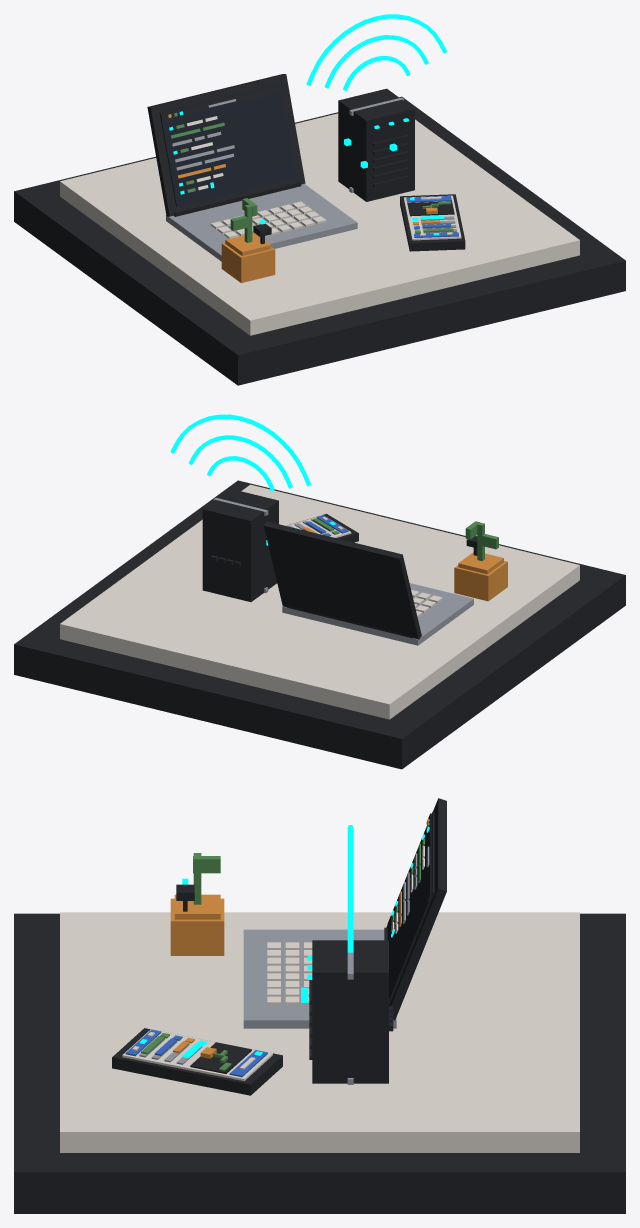
The model's file is software_scene.glb.
The picture shows the model from 3 angles, top to bottom: view 1: azimuth 30°, elevation 25°; view 2: azimuth 150°, elevation 25°; view 3: azimuth 270°, elevation 25°; orthographic projection. The views are drawn at different scales.
Parts seen in each view (by area): view 1: PROP_plinth, PROP_laptop_display, PROP_server_chassis, PROP_laptop_base, PROP_laptop_screen, PROP_iot_pot, PROP_phone_body, FX_wifi_arc_2, PROP_term_titlebar, PROP_laptop_hinge, PROP_phone_screen, FX_wifi_arc_1 (+1 smaller); view 2: PROP_plinth, PROP_laptop_screen, PROP_server_chassis, PROP_laptop_base, PROP_iot_pot, FX_wifi_arc_2, FX_wifi_arc_1, PROP_iot_plant; view 3: PROP_plinth, PROP_server_chassis, PROP_laptop_base, PROP_iot_pot, PROP_laptop_display, PROP_phone_body, PROP_laptop_screen, PROP_phone_screen, PROP_app_card, FX_wifi_arc_2, PROP_iot_plant.
Boxes of the visible parts, x1,y1,x2,y2 form: PROP_plinth: (14,96,625,385); PROP_laptop_display: (159,83,296,206); PROP_server_chassis: (338,88,414,201); PROP_laptop_base: (166,184,357,261); PROP_laptop_screen: (147,74,305,216); PROP_iot_pot: (221,233,275,282); PROP_phone_body: (400,194,465,251); FX_wifi_arc_2: (306,14,446,85); PROP_term_titlebar: (161,85,282,121); PROP_laptop_hinge: (174,181,301,216); PROP_phone_screen: (404,195,461,240); FX_wifi_arc_1: (324,35,428,88); PROP_plinth: (14,480,625,769); PROP_laptop_screen: (264,521,421,639); PROP_server_chassis: (202,489,278,601); PROP_laptop_base: (282,583,473,645); PROP_iot_pot: (454,552,507,601); FX_wifi_arc_2: (170,414,310,486); FX_wifi_arc_1: (188,435,292,488); PROP_iot_plant: (465,521,498,560); PROP_plinth: (14,912,625,1213); PROP_server_chassis: (312,940,388,1083); PROP_laptop_base: (243,929,396,1028); PROP_iot_pot: (170,894,224,955); PROP_laptop_display: (387,812,434,1004); PROP_phone_body: (112,1028,282,1095); PROP_laptop_screen: (386,798,446,1020); PROP_phone_screen: (122,1029,272,1081); PROP_app_card: (190,1042,251,1073); FX_wifi_arc_2: (347,825,353,952); PROP_iot_plant: (193,853,220,904).
Bounding box in the file's own units: 4 × 2.12 × 4.
